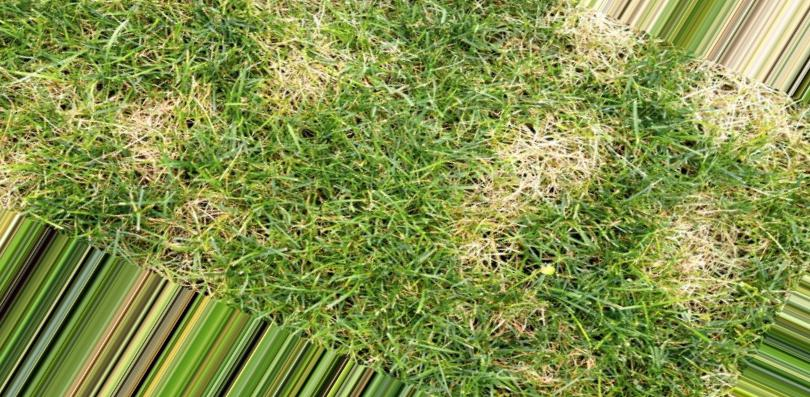patch: (471, 99, 589, 197), (88, 87, 197, 181), (662, 197, 734, 307), (694, 77, 760, 148), (268, 46, 333, 109)
